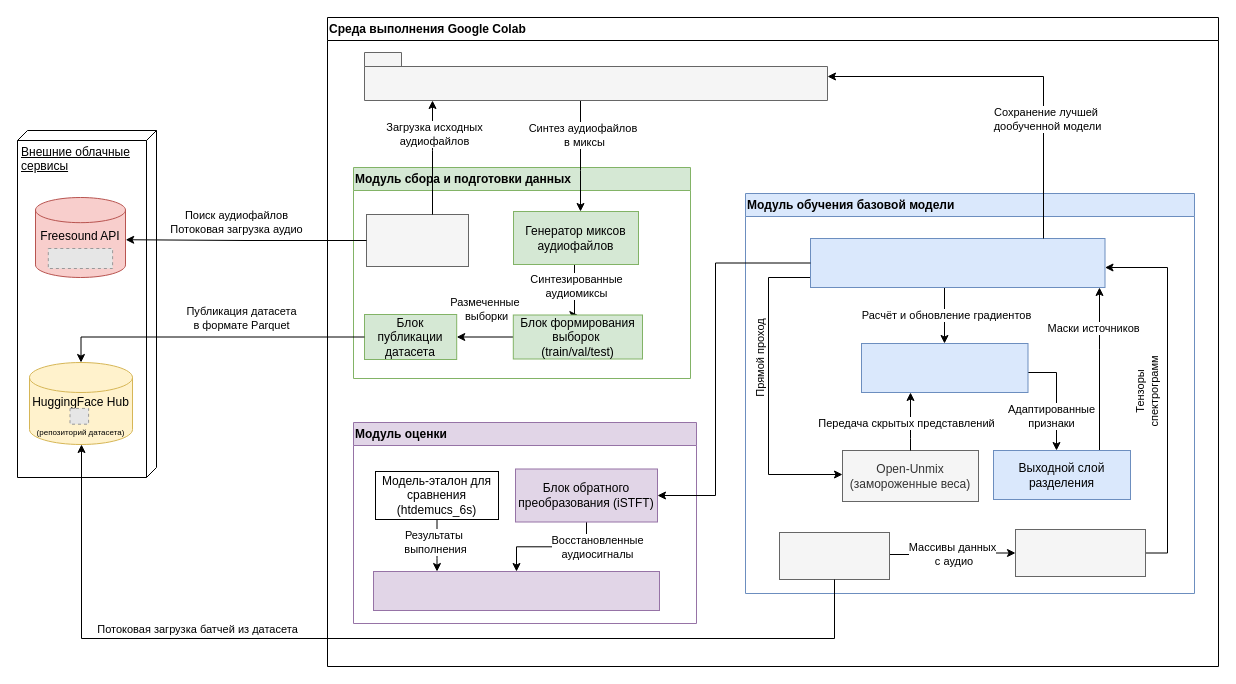
Some shapes in this 1236 by 684 pixel diagram are drawn without their labels. Grey dashed boxes stand in for pictures. The centre of each missing label's shape, as x and y in pixels:
Адаптеры LoRA (матрицы A, B): (944,367)
Блок управления дообучением (оптимизатор AdamW + ф-я потерь L1 loss): (957,263)
Временное локальное хранилище /content: (596,76)
Загрузчик данных (DataLoader): (834,556)
Калькулятор метрик качества (SDR, SIR, SAR): (516,590)
Клиент API Freesound: (417,240)
Модуль спектрального преобразования (STFT): (1080,552)
